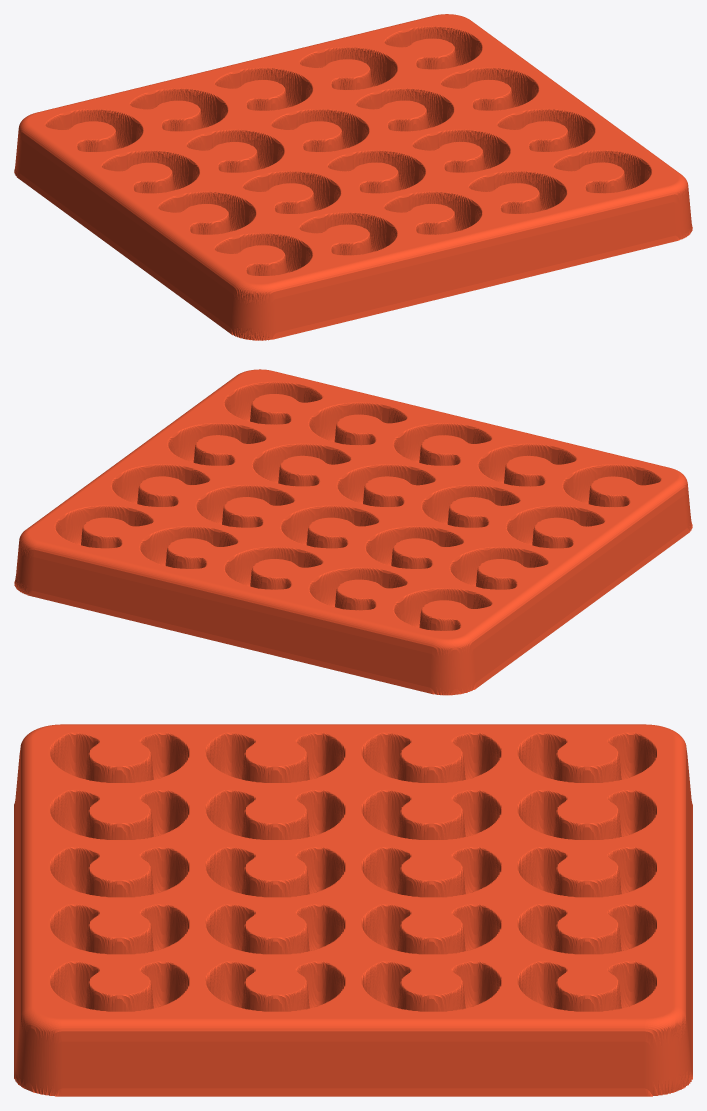
File: mold.glb
3 views of the same model, one above another, from view 1: azimuth 30°, elevation 25°; view 2: azimuth 150°, elevation 25°; view 3: azimuth 270°, elevation 25° (orthographic). The views are drawn at different scales.
Visible parts, largest first — view 1: geometry_0; view 2: geometry_0; view 3: geometry_0.
Part boxes in pixels (x1,y1,x2,y2): geometry_0: (14, 14, 692, 340); geometry_0: (14, 369, 692, 695); geometry_0: (14, 724, 692, 1096).
Size of the model in its own units: 0.1376 by 0.0145 by 0.1278.
